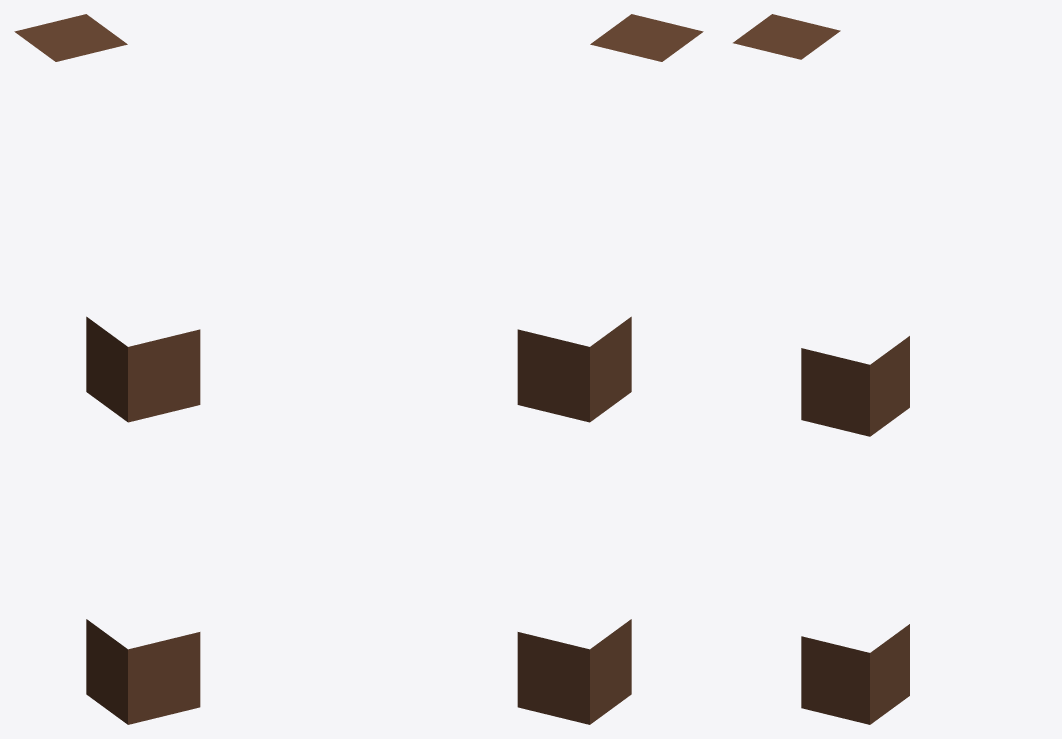
Rendered from tree-cherry-0p9-pink1-6b452e.gltf.
The picture shows the model from 3 angles, left to right: view 1: azimuth 30°, elevation 25°; view 2: azimuth 150°, elevation 25°; view 3: azimuth 330°, elevation 25°; orthographic projection. The views are drawn at different scales.
Visible parts, largest first — view 1: tree-cherry-0p9-pink1-6b452e; view 2: tree-cherry-0p9-pink1-6b452e; view 3: tree-cherry-0p9-pink1-6b452e.
Boxes of the visible parts, x1,y1,x2,y2 form: tree-cherry-0p9-pink1-6b452e: (14, 14, 200, 724); tree-cherry-0p9-pink1-6b452e: (517, 14, 703, 724); tree-cherry-0p9-pink1-6b452e: (733, 14, 909, 724).
Bounding box in the file's own units: 4 × 9 × 1.
